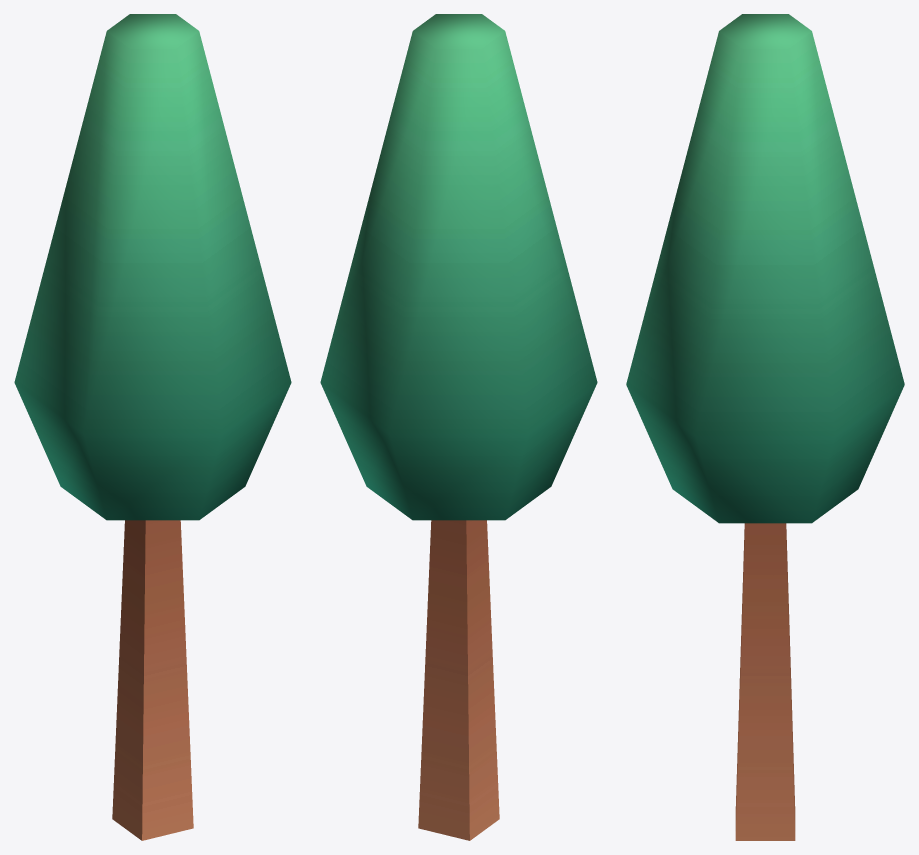
Rendered from tree-large.glb.
The picture shows the model from 3 angles, left to right: view 1: azimuth 30°, elevation 25°; view 2: azimuth 150°, elevation 25°; view 3: azimuth 270°, elevation 25°; orthographic projection.
Visible parts, largest first — view 1: tree-large; view 2: tree-large; view 3: tree-large.
Part boxes in pixels (x1,y1,x2,y2): tree-large: (14,14,291,840); tree-large: (320,14,597,840); tree-large: (626,14,904,840).
Size of the model in its own units: 0.2104 by 0.767 by 0.243.
1 material, 1 textured.
